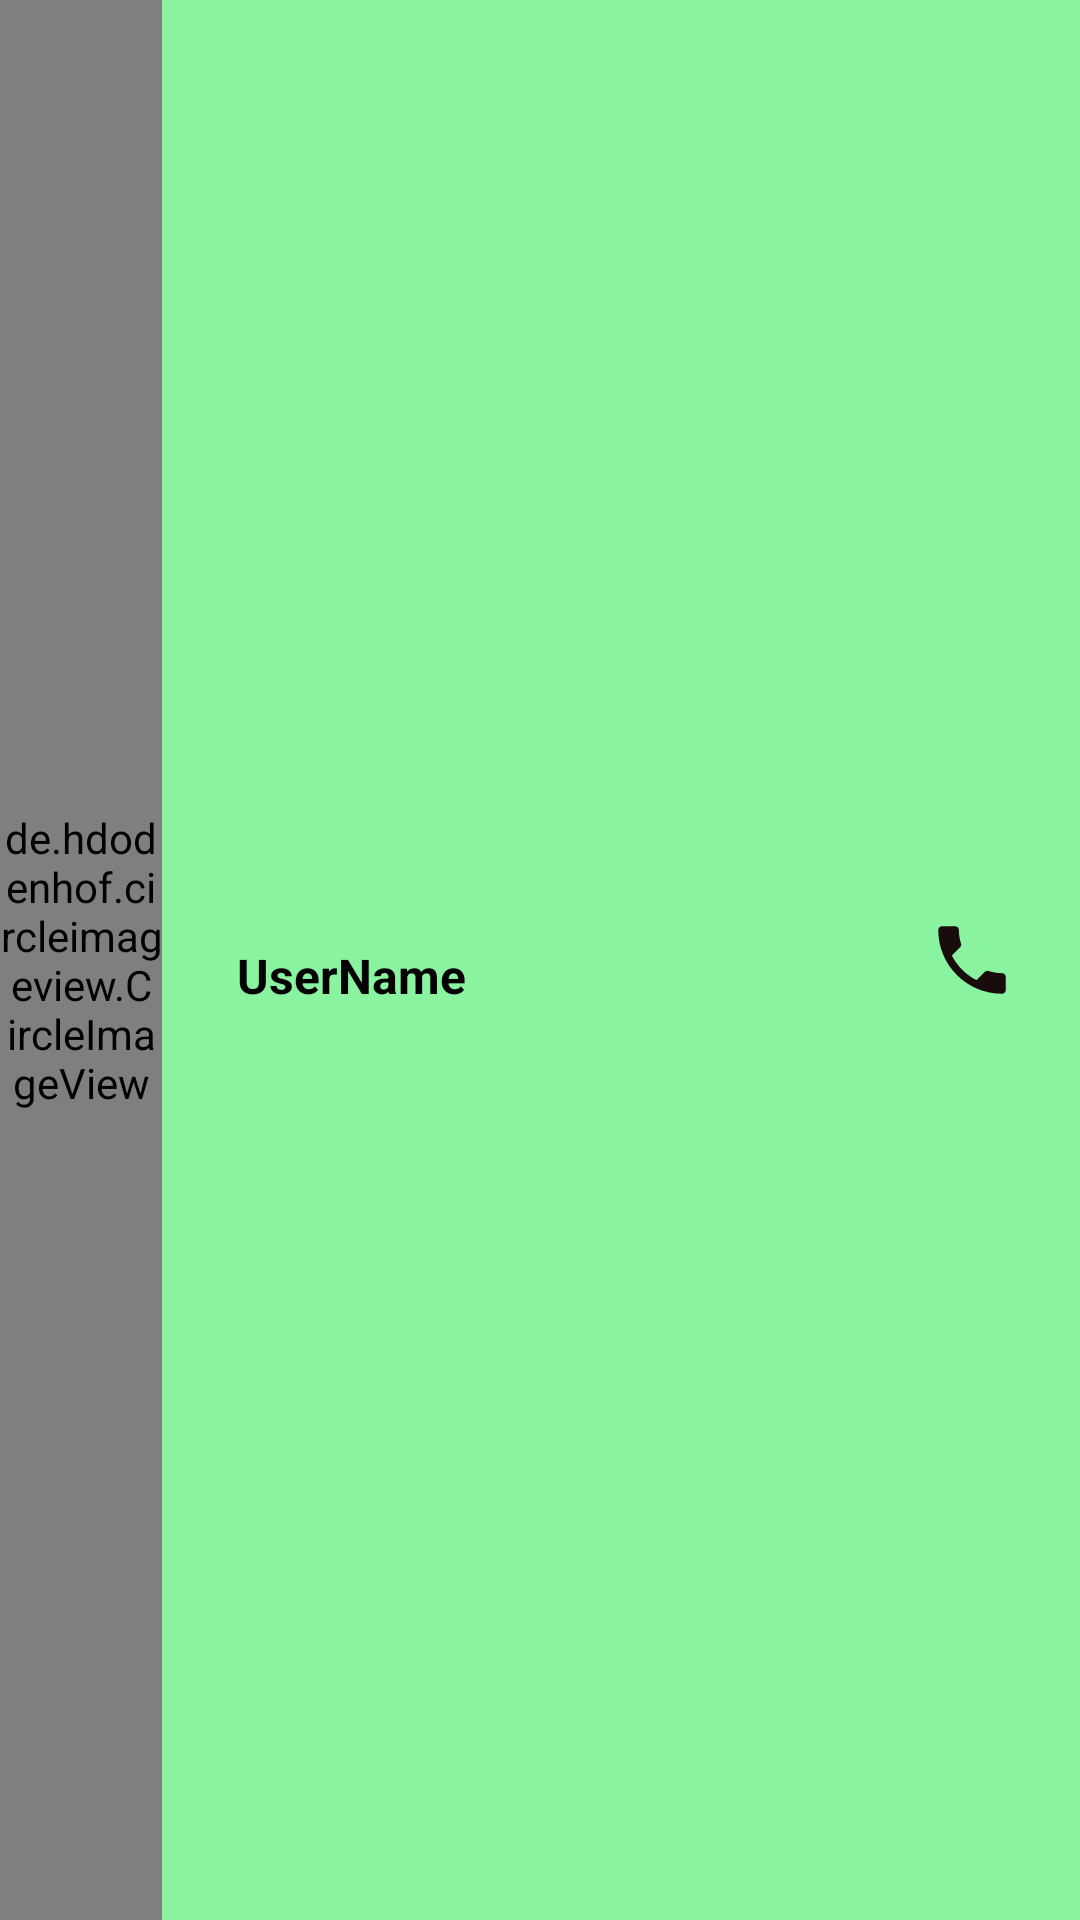

Locate icon controls on the screen. Image size 1080 × 1920, boxes as (x1, y1, x2, y2).
phone: (938, 926, 1006, 994)
